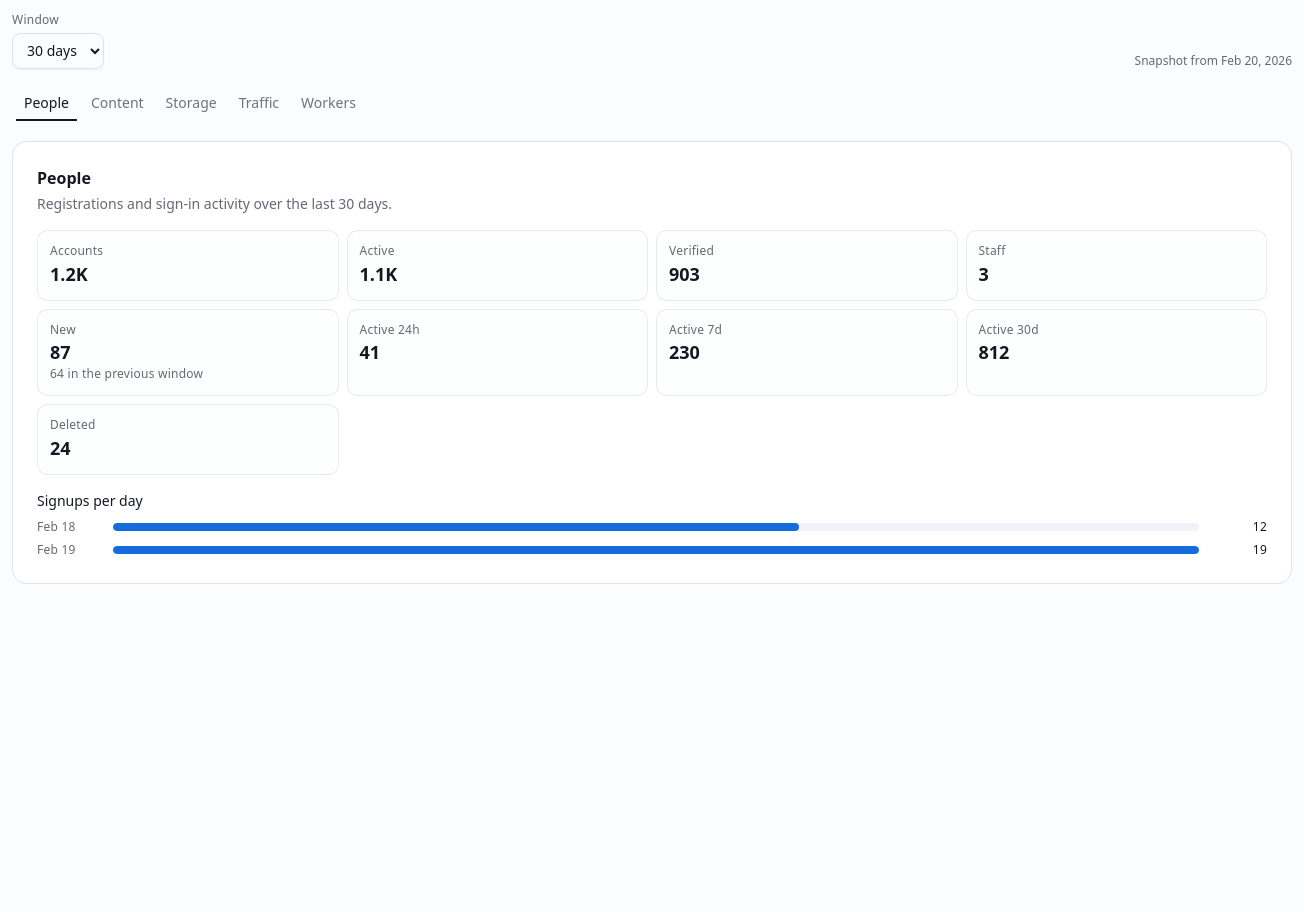
Dashboard › renders every section from the single aggregate response
Expected: the heading "People" is shown, top-left (37, 167), bottom-right (91, 189)
Expected: the text "64 in the previous window" is shown, top-left (50, 365), bottom-right (203, 382)
Click the tab "Content" at coordinates (117, 103), box top-left (82, 88), bottom-right (153, 117)
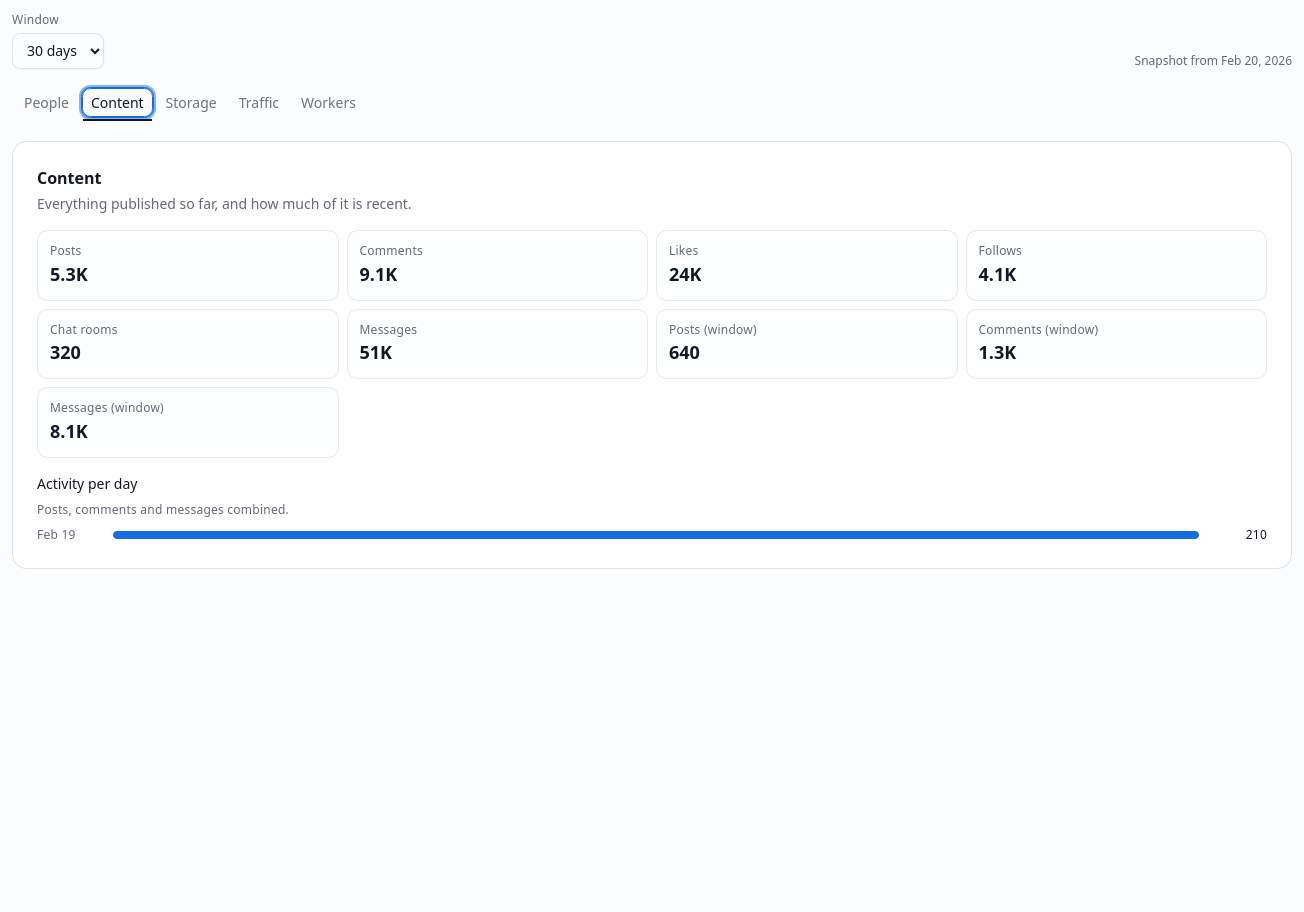
Now the heading "Content" is shown, box top-left (37, 167), bottom-right (102, 189)
Now the text "51K" is shown, box top-left (360, 340), bottom-right (392, 364)
Click the tab "Storage" at coordinates (191, 103), box top-left (157, 88), bottom-right (226, 117)
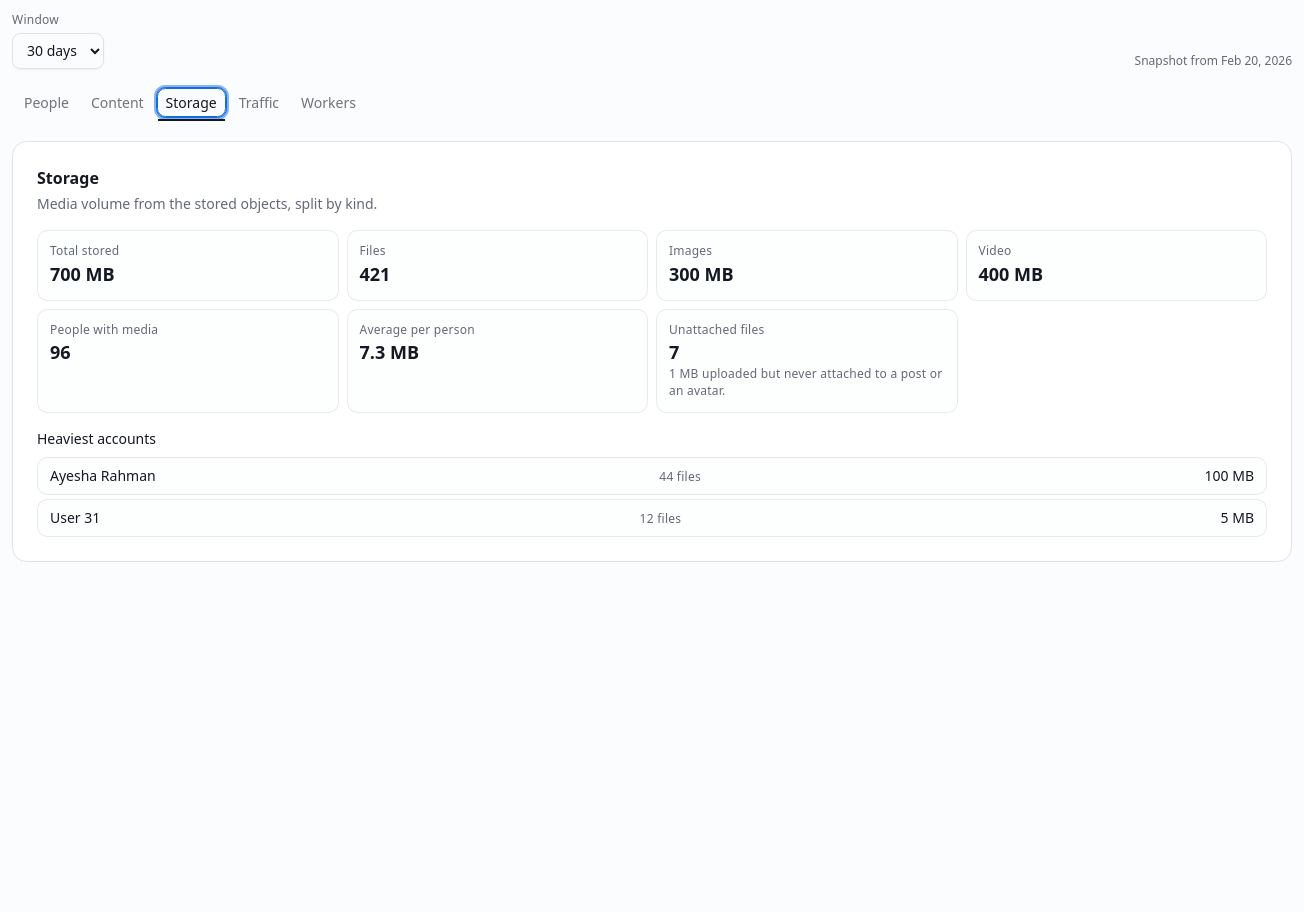
Now the heading "Storage" is shown, box top-left (37, 167), bottom-right (99, 189)
Now the text "Ayesha Rahman" is shown, box top-left (50, 466), bottom-right (156, 486)
Now the text "User 31" is shown, box top-left (50, 508), bottom-right (100, 528)
Click the tab "Traffic" at coordinates (259, 103), box top-left (230, 88), bottom-right (288, 117)
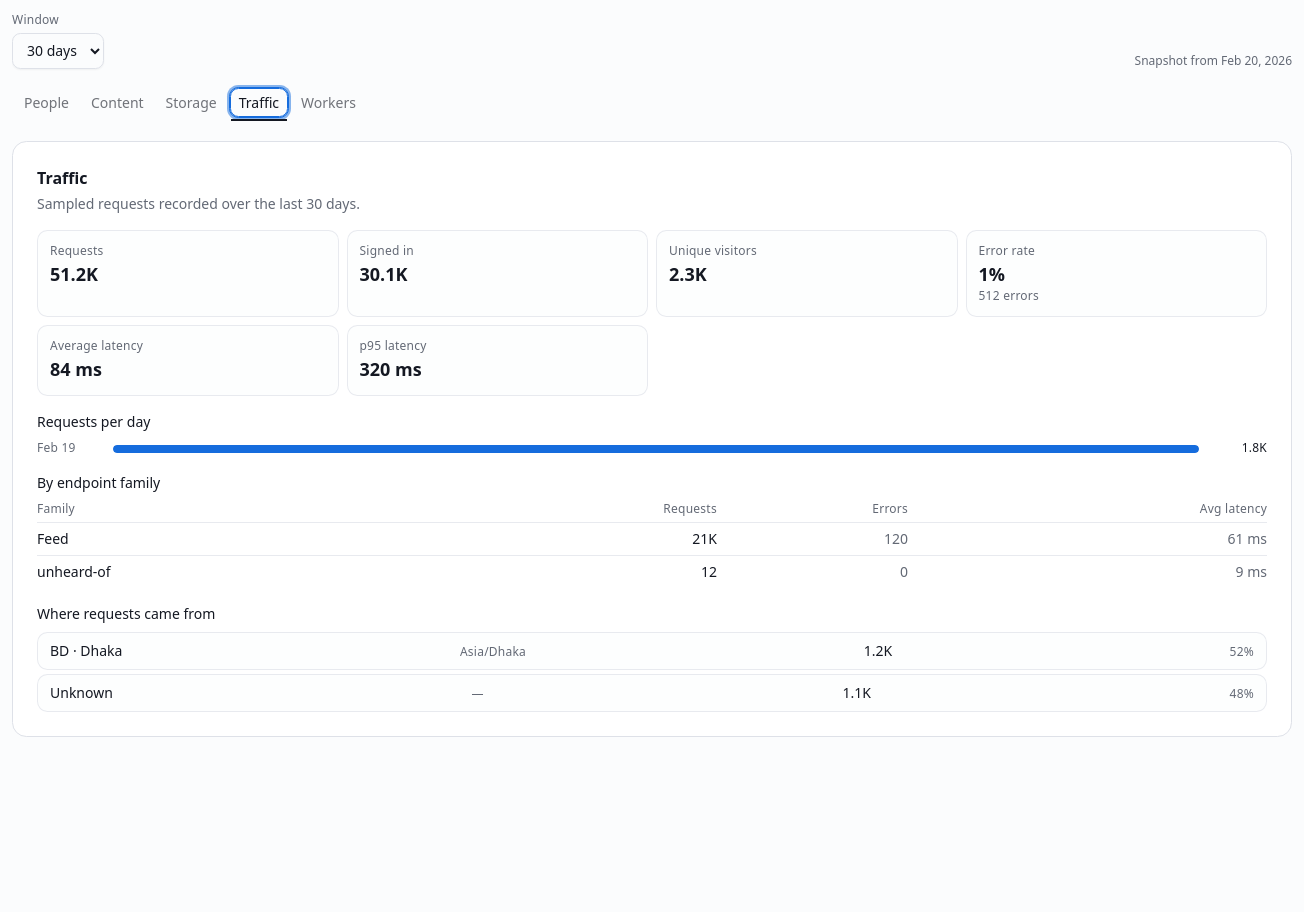
Now the heading "Traffic" is shown, box top-left (37, 167), bottom-right (88, 189)
Now the text "30.1K" is shown, box top-left (360, 262), bottom-right (408, 286)
Now the text "Feed" is shown, box top-left (37, 522), bottom-right (431, 555)
Click the tab "Workers" at coordinates (329, 103), box top-left (292, 88), bottom-right (365, 117)
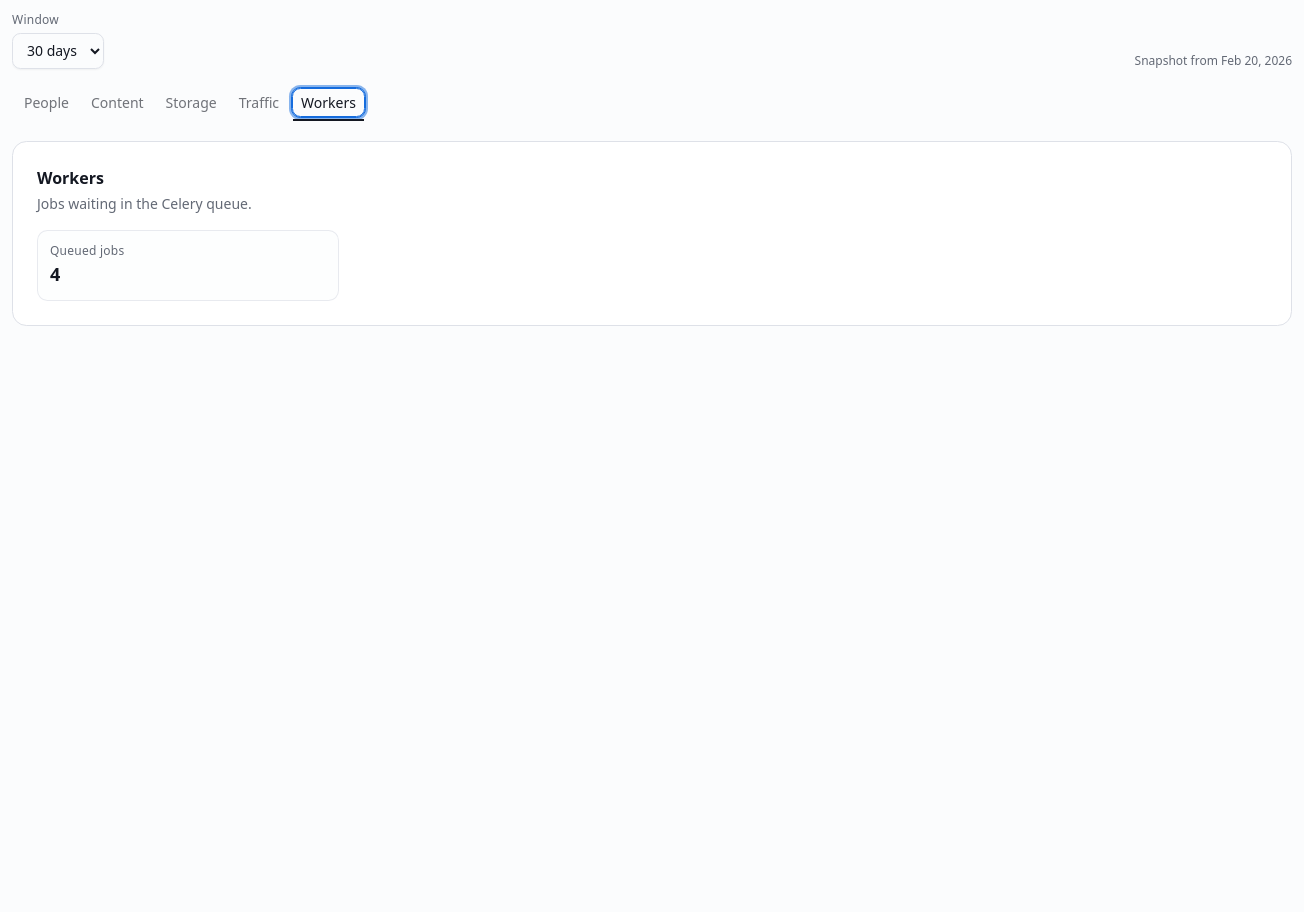
Now the heading "Workers" is shown, box top-left (37, 167), bottom-right (104, 189)
